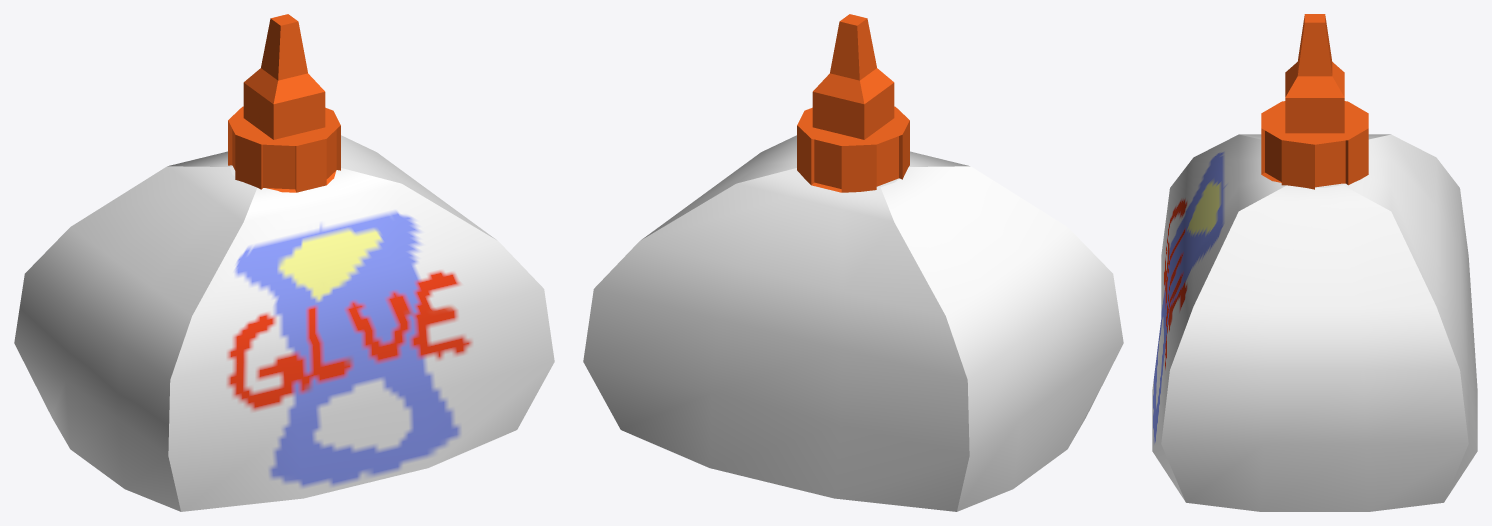
File: glue.fbx
3 views of the same model, side by side, from view 1: azimuth 30°, elevation 25°; view 2: azimuth 150°, elevation 25°; view 3: azimuth 270°, elevation 25° (orthographic).
Parts seen in each view (by area): view 1: pCube1, pCube3; view 2: pCube1, pCube3; view 3: pCube1, pCube3.
Boxes of the visible parts, x1=… form: pCube1: x1=14, y1=135, x2=554, y2=511; pCube3: x1=228, y1=14, x2=340, y2=192; pCube1: x1=583, y1=135, x2=1123, y2=511; pCube3: x1=797, y1=14, x2=909, y2=192; pCube1: x1=1152, y1=134, x2=1477, y2=511; pCube3: x1=1261, y1=14, x2=1368, y2=189.
Bounding box in the file's own units: 1.14 × 1.13 × 0.8308.
2 materials, 2 textured.
